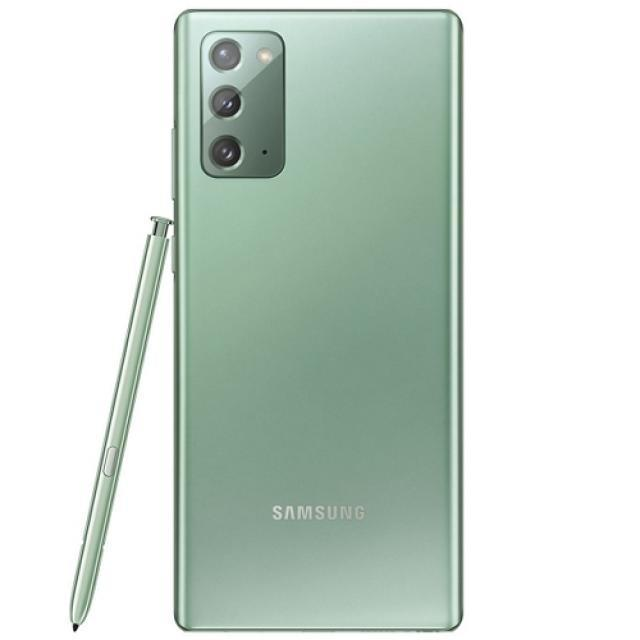phone: (172, 10, 466, 634)
